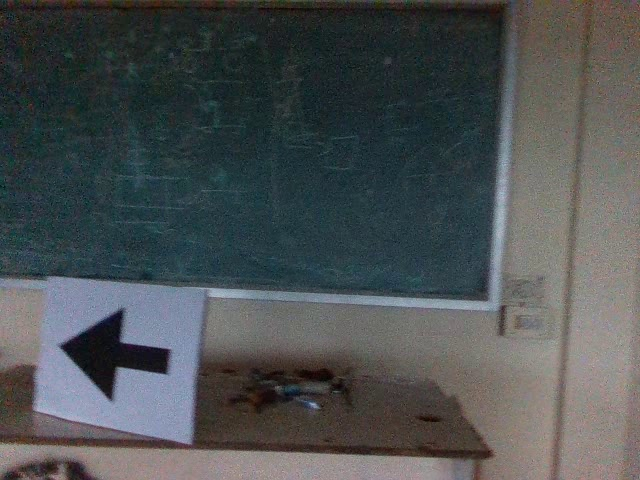Left: (52, 301, 180, 404)
